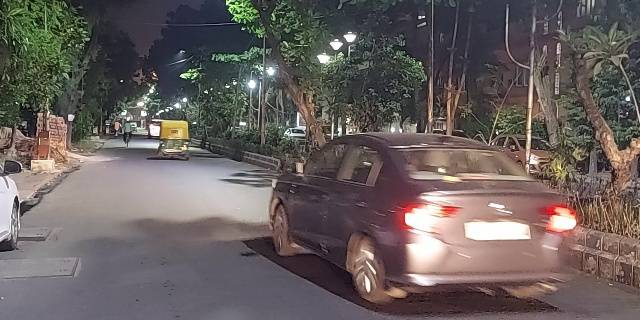Autorickshaw: (157, 117, 191, 160)
Car: (267, 131, 575, 304)
